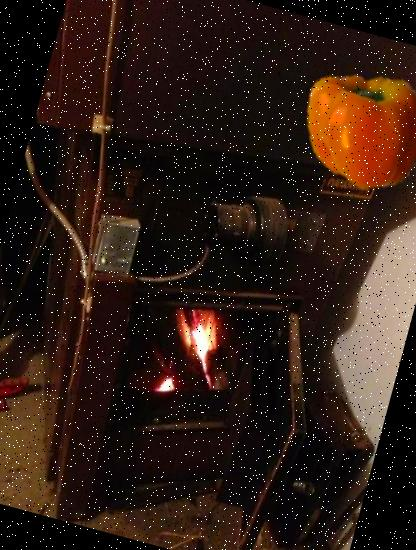Pepper: (289, 51, 416, 209)
